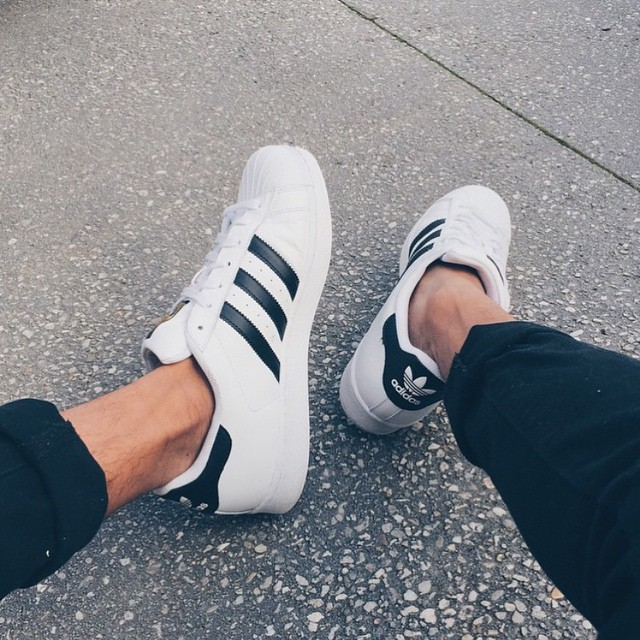sneaker: (117, 120, 367, 552), (330, 169, 526, 452)
